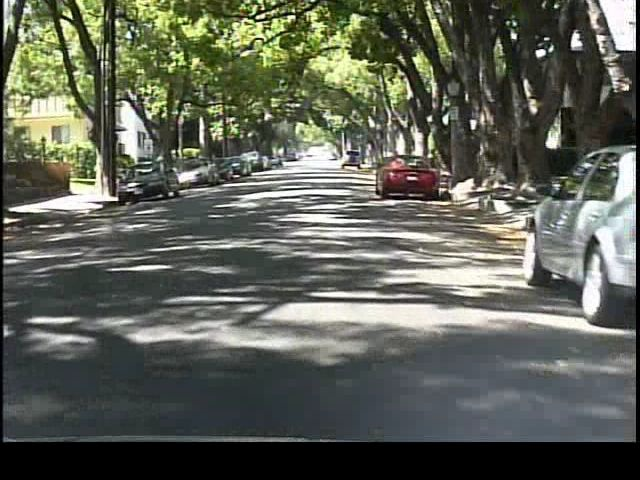person: (153, 148, 173, 186)
